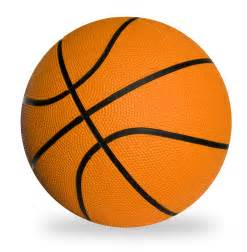basketball: (19, 16, 234, 229)
